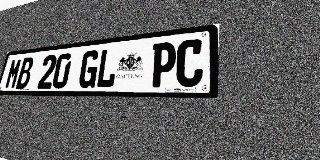0: (51, 53, 73, 88)
2: (37, 54, 58, 89)
B: (15, 57, 35, 89)
C: (175, 38, 204, 87)
G: (77, 50, 100, 88)
L: (95, 47, 119, 88)
M: (4, 58, 23, 89)
P: (149, 41, 177, 87)
